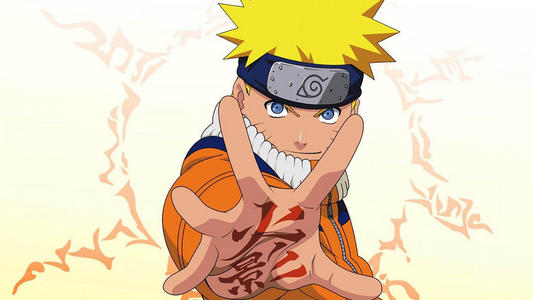naruto: (231, 44, 364, 167)
